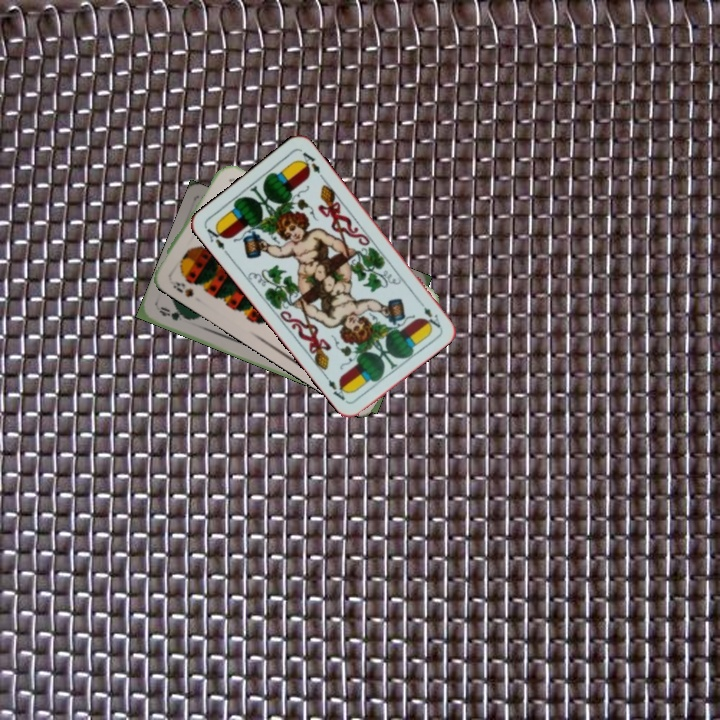EA: (203, 221, 232, 258), (413, 295, 443, 330)
GO: (155, 302, 194, 324)
S8: (167, 276, 196, 300)
